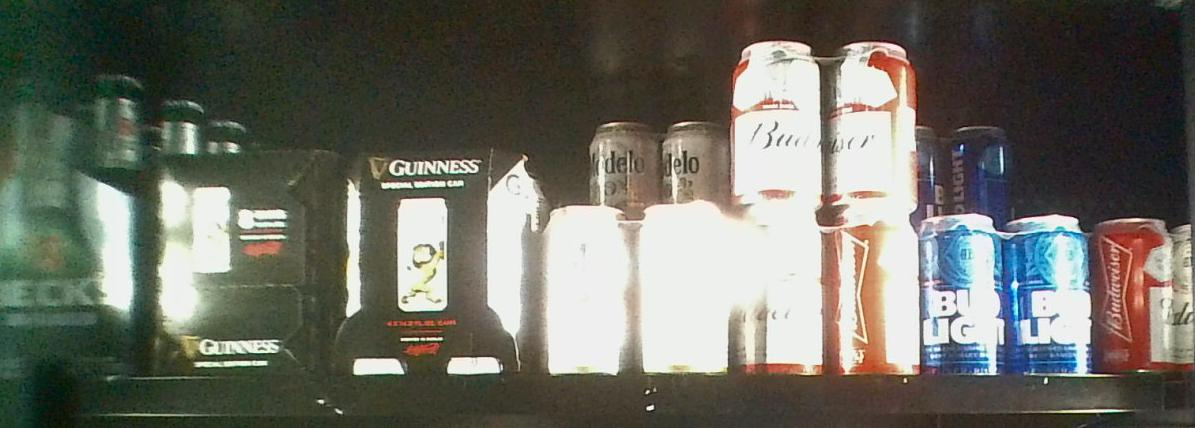bottle: (343, 146, 536, 379), (153, 148, 335, 373), (727, 44, 826, 374), (542, 202, 728, 375), (825, 39, 917, 371), (918, 214, 1093, 375), (1097, 216, 1175, 375)
